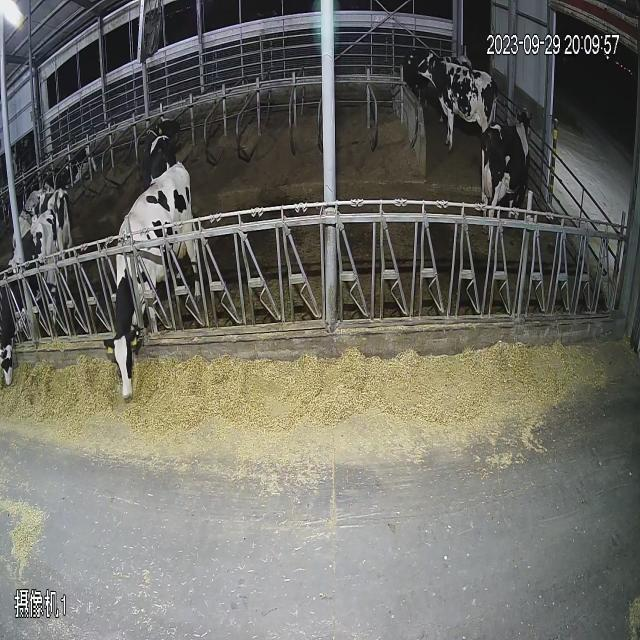feeding: (110, 166, 194, 386), (0, 158, 59, 404)
standing: (416, 46, 508, 152)
